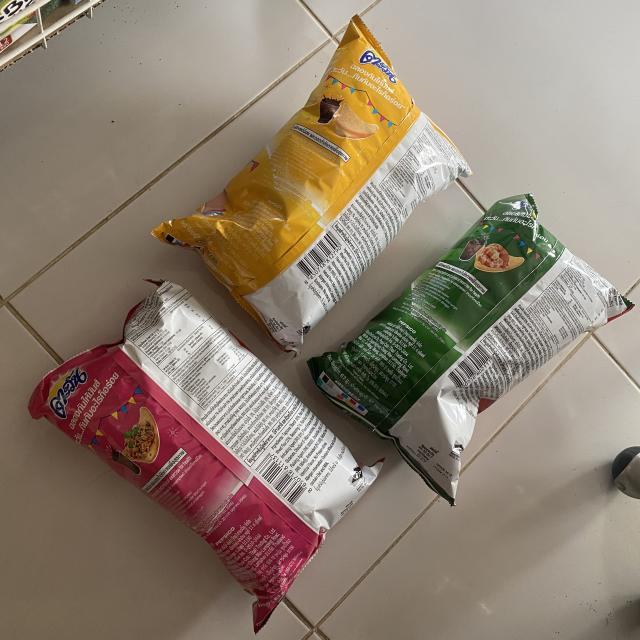plastik: (29, 281, 382, 632), (152, 16, 471, 352), (308, 194, 634, 504)
